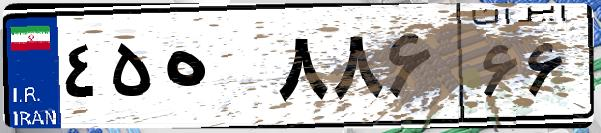4: (57, 26, 110, 100)
5: (110, 28, 158, 98)
6: (385, 28, 445, 110), (475, 38, 525, 113), (525, 38, 570, 115)
8: (270, 28, 330, 110), (330, 28, 385, 110)
ه: (158, 20, 270, 120)
